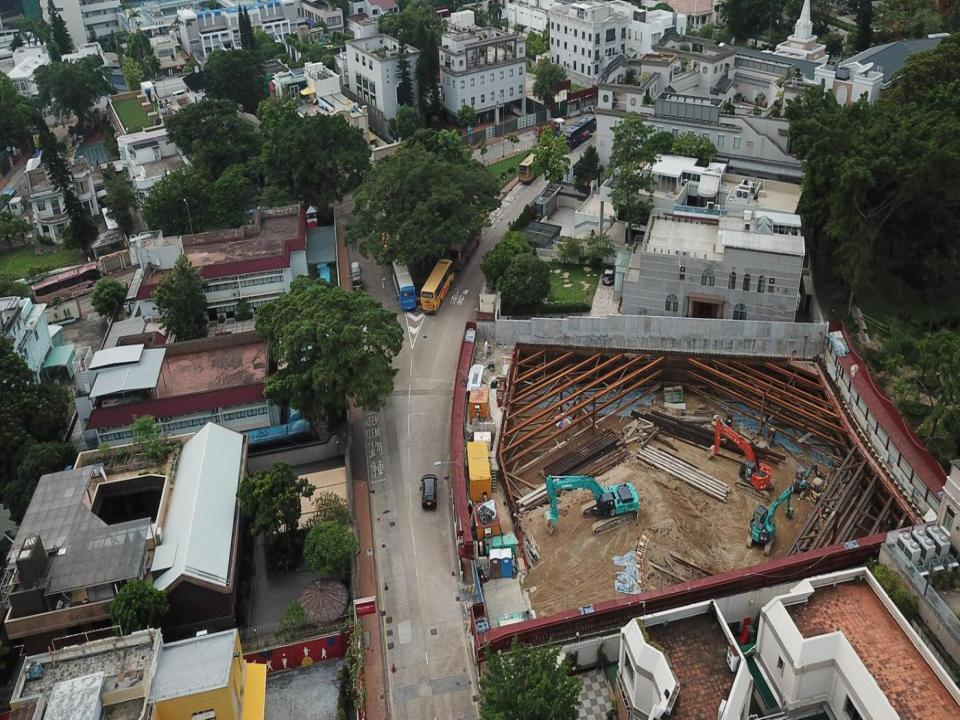bus: (31, 263, 103, 311), (238, 417, 315, 458), (421, 259, 454, 314), (390, 256, 418, 312), (519, 144, 553, 184), (564, 116, 598, 152), (357, 308, 377, 364), (287, 366, 308, 416), (298, 316, 314, 367), (319, 267, 332, 304)
car: (603, 261, 614, 286)
truck: (534, 116, 566, 139), (351, 260, 365, 294)
van: (420, 474, 437, 510)
